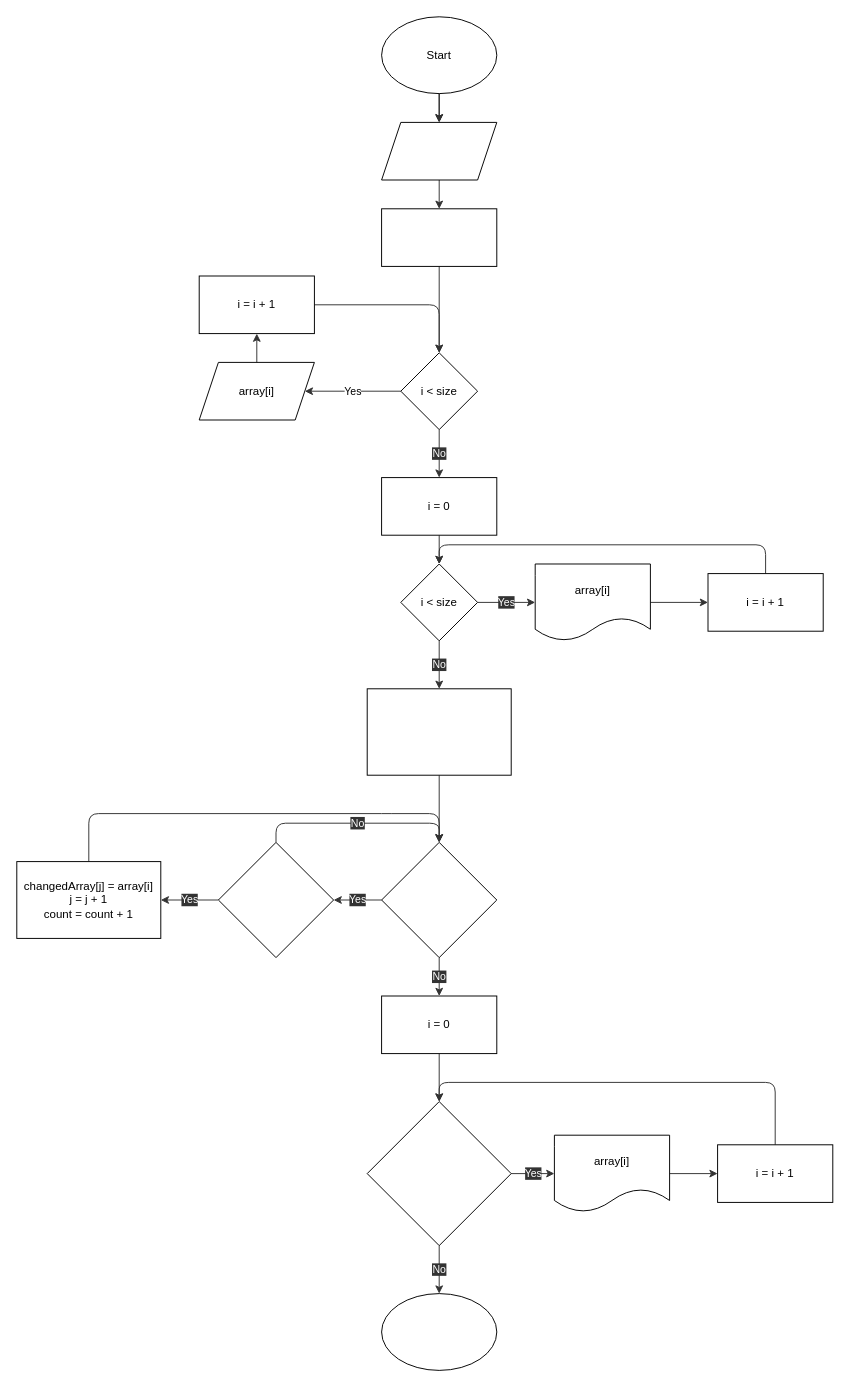
Some shapes in this 850 by 1387 pixel diagram are drawn without their labels. The shapes that lost their labels are listed below. From the top down, each one's centre as x and y in pixels, then its label:
At point 439,150: "size".
At point 439,237: "array[0 : size - 1] i = 0".
At point 438,731: "changedArray[0 : array.Lenght - 1] i = 0 j = 0 count = 0".
At point 275,899: "array[i].Lenght > 3".
At point 439,899: "i < array.Lenght".
At point 438,1173: "i < changedArray.Lenght".
